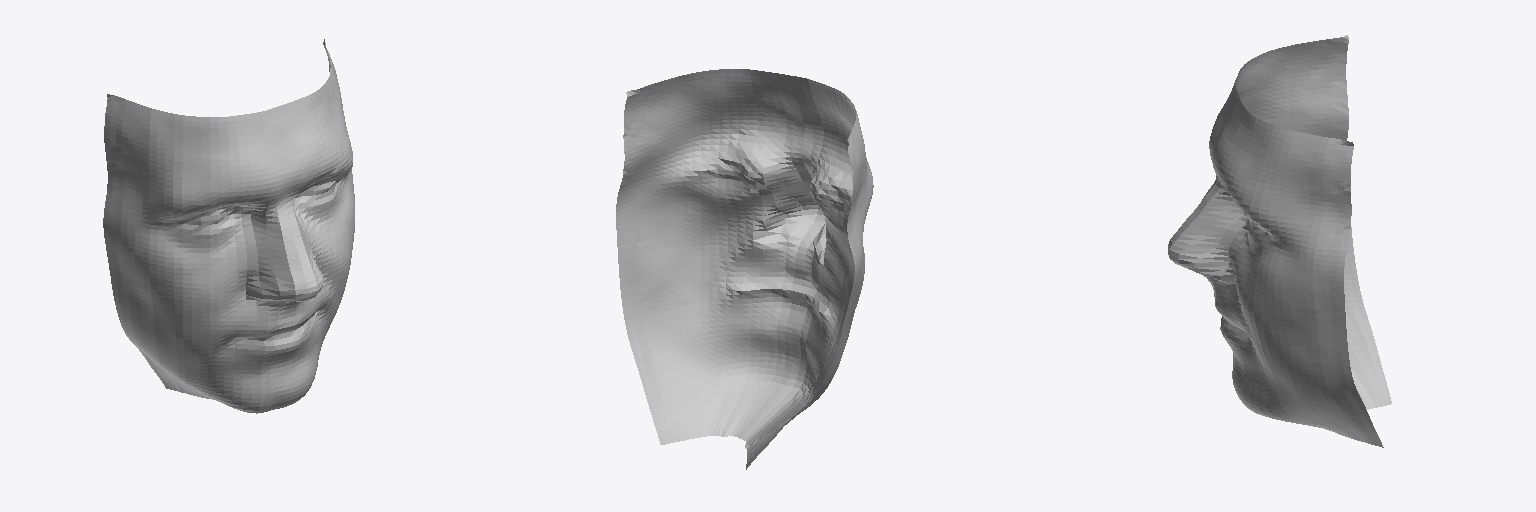
The model's file is tiny_face-original.obj.
The picture shows the model from 3 angles: view 1: azimuth 30°, elevation 25°; view 2: azimuth 150°, elevation 25°; view 3: azimuth 270°, elevation 25°; orthographic projection.
Bounding box in the file's own units: 1.52 × 2 × 1.23.